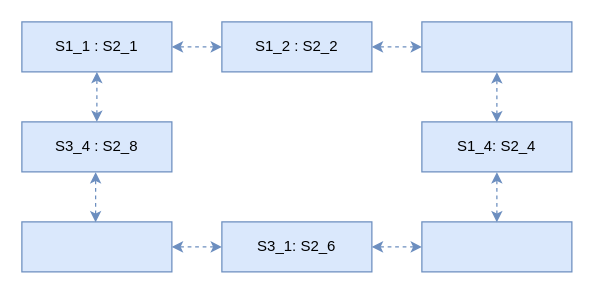
The diagram is 594 pixels wide and 294 high, and some of its shapes have lost their labels. Here are the shapes that lost their labels. From the top down, the centre of each, then its label:
At (496,46): "S1_3 : S2_3".
At (96,246): "S3_3 : S2_7".
At (496,246): "S3_2: S2_5".
